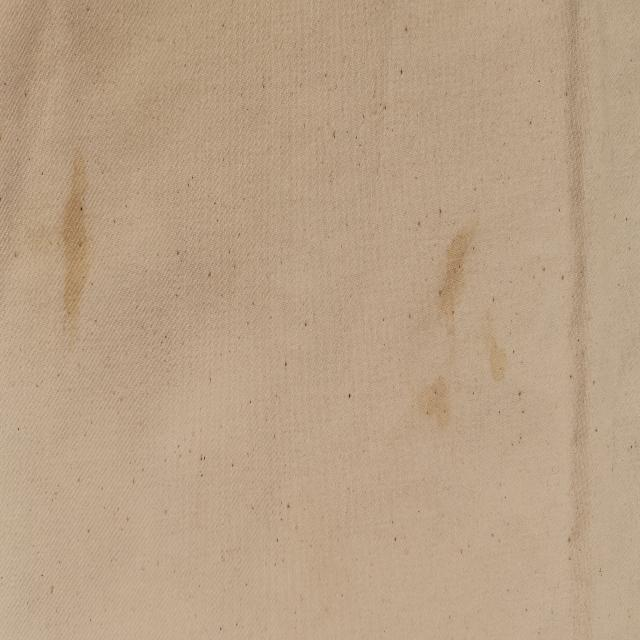taaaches: (48, 127, 107, 352), (436, 229, 471, 325), (419, 368, 452, 434), (486, 330, 513, 390)
